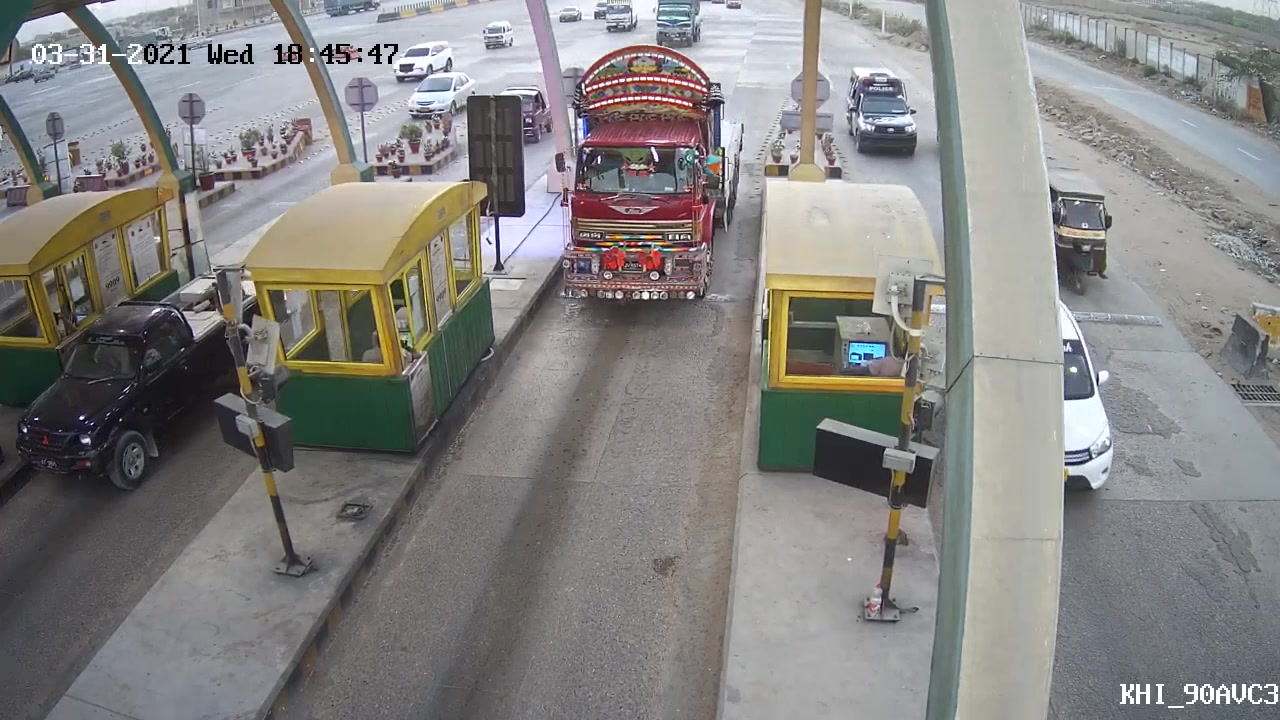F5: (530, 120, 742, 314)
